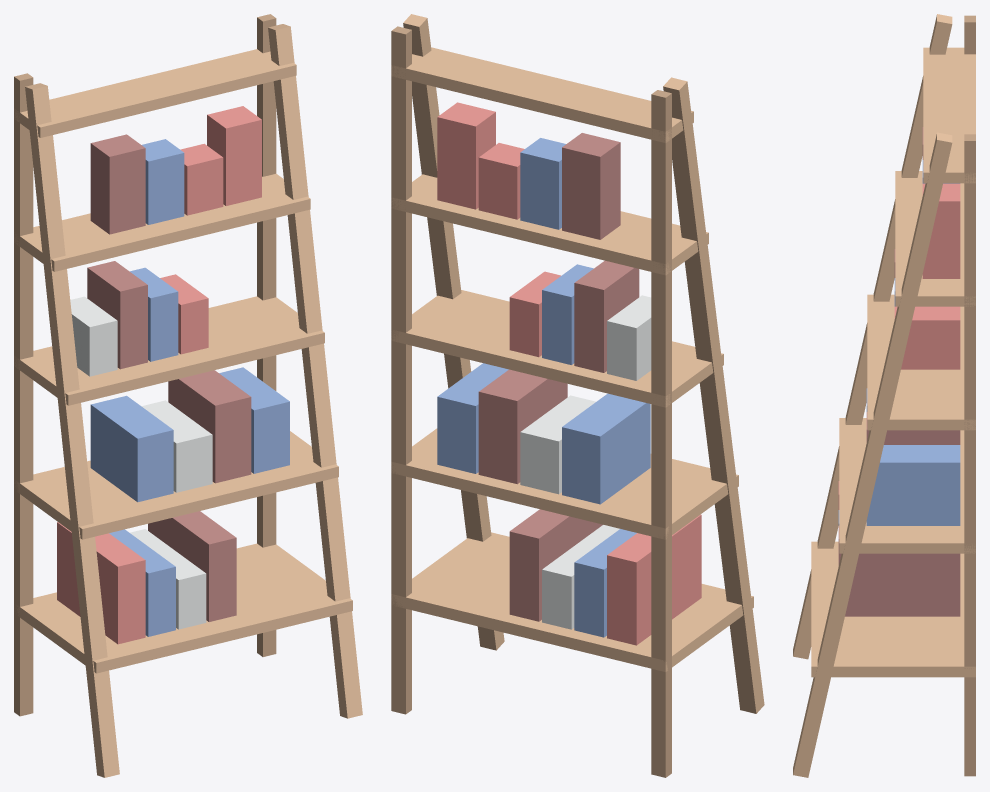
The model's file is bookcaseLadder.glb.
3 renders of one model, left to right at view 1: azimuth 30°, elevation 25°; view 2: azimuth 150°, elevation 25°; view 3: azimuth 270°, elevation 25°, orthographic. The views are drawn at different scales.
Visible parts, largest first — view 1: bookcaseLadder; view 2: bookcaseLadder; view 3: bookcaseLadder.
Part boxes in pixels (<box>): bookcaseLadder: <box>14,14,362,777</box>; bookcaseLadder: <box>391,14,764,777</box>; bookcaseLadder: <box>793,14,975,777</box>.
Size of the model in its own units: 0.3825 by 0.904 by 0.2348.
